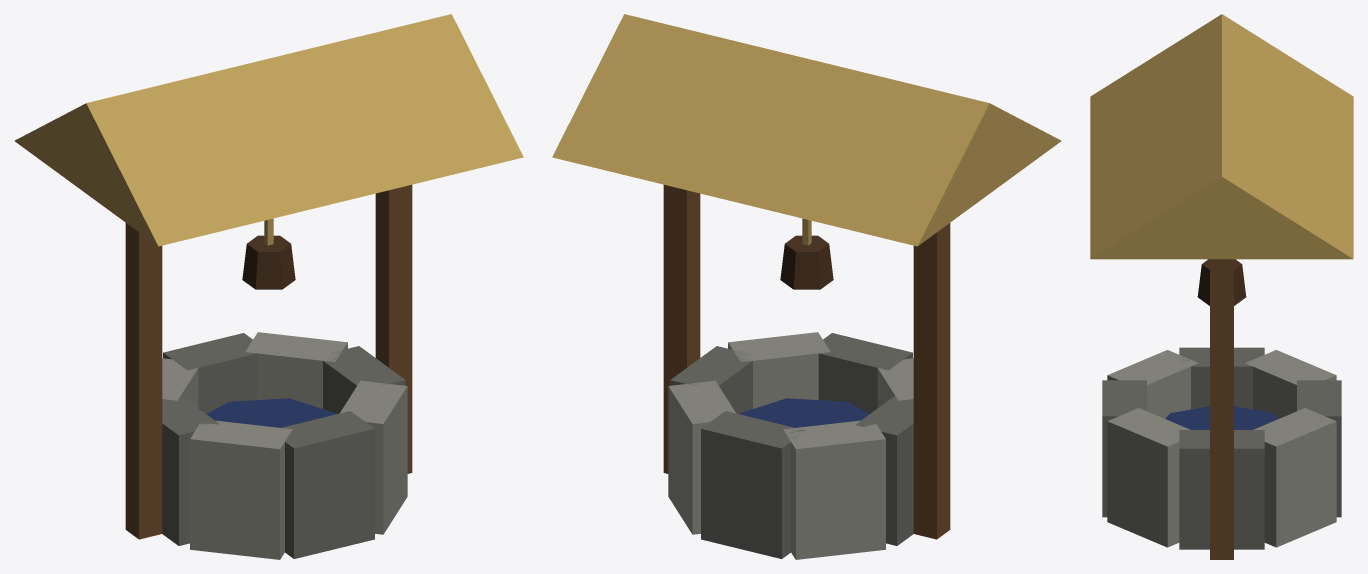
The model's file is prop_umul.obj.
3 views of the same model, side by side, from view 1: azimuth 30°, elevation 25°; view 2: azimuth 150°, elevation 25°; view 3: azimuth 270°, elevation 25° (orthographic). The views are drawn at different scales.
Visible parts, largest first — view 1: prop_umul_0_4, prop_umul_0_1, prop_umul_0_0, prop_umul_0_3, prop_umul_0_2, prop_umul_0_5; view 2: prop_umul_0_4, prop_umul_0_1, prop_umul_0_0, prop_umul_0_3, prop_umul_0_2, prop_umul_0_5; view 3: prop_umul_0_4, prop_umul_0_1, prop_umul_0_0, prop_umul_0_3, prop_umul_0_2, prop_umul_0_5.
Part boxes in pixels (<box>): prop_umul_0_4: <box>14,14,523,246</box>; prop_umul_0_1: <box>162,332,407,559</box>; prop_umul_0_0: <box>162,333,405,558</box>; prop_umul_0_3: <box>125,185,412,539</box>; prop_umul_0_2: <box>206,398,337,427</box>; prop_umul_0_5: <box>242,235,295,289</box>; prop_umul_0_4: <box>552,14,1061,246</box>; prop_umul_0_1: <box>668,332,913,559</box>; prop_umul_0_0: <box>670,333,913,558</box>; prop_umul_0_3: <box>663,185,950,539</box>; prop_umul_0_2: <box>738,398,869,427</box>; prop_umul_0_5: <box>780,235,833,289</box>; prop_umul_0_4: <box>1090,14,1353,259</box>; prop_umul_0_1: <box>1107,350,1336,547</box>; prop_umul_0_0: <box>1102,347,1341,549</box>; prop_umul_0_3: <box>1207,259,1236,559</box>; prop_umul_0_2: <box>1165,406,1278,429</box>; prop_umul_0_5: <box>1197,260,1246,305</box>.
Size of the model in its own units: 1.9 by 2.2 by 1.3.
